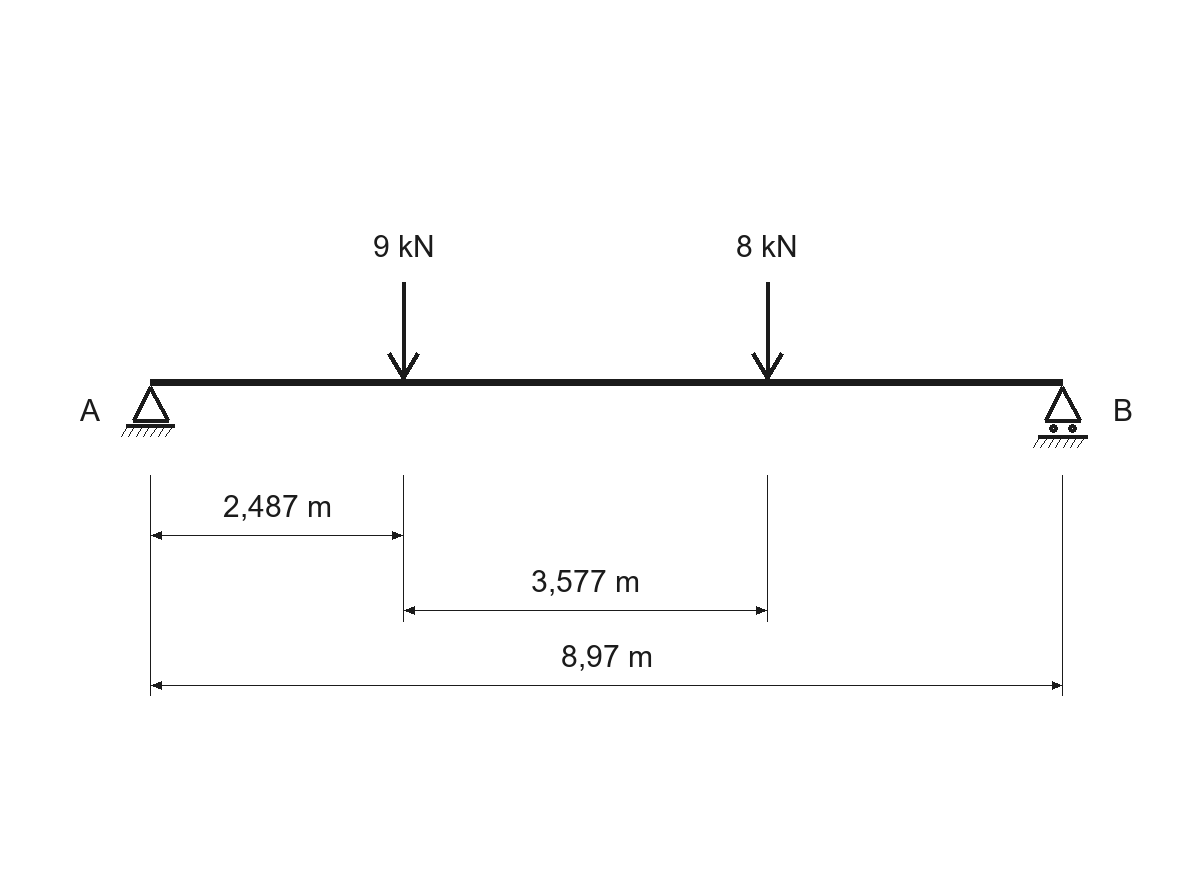pin_support: (121, 386, 175, 437)
point_load: (387, 282, 420, 380), (751, 282, 784, 380)
roller_support: (1033, 386, 1088, 448)
